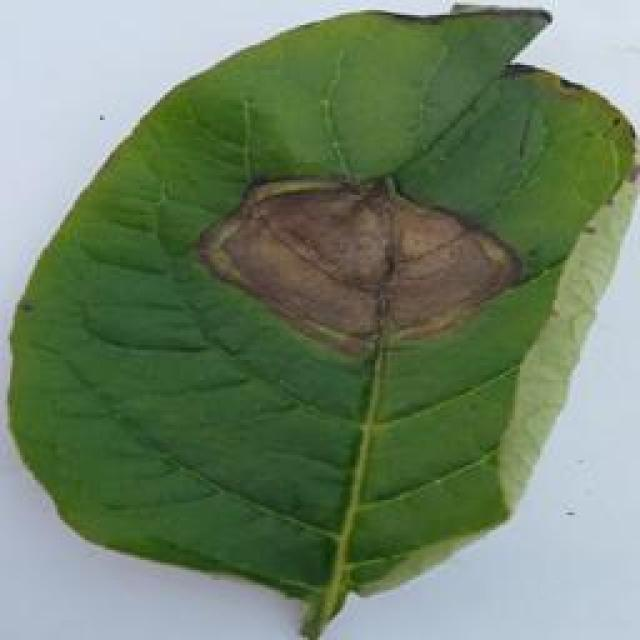Potato_Late_Blight: (9, 7, 626, 632)
